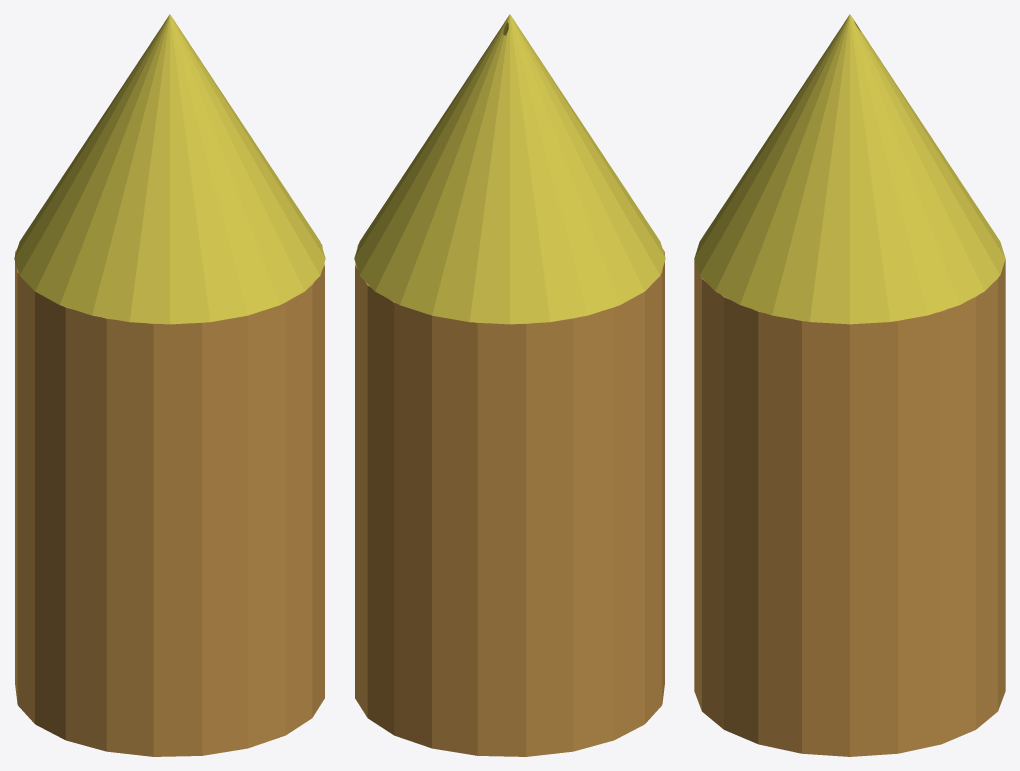
File: Figura.glb
3 views of the same model, side by side, from view 1: azimuth 30°, elevation 25°; view 2: azimuth 150°, elevation 25°; view 3: azimuth 270°, elevation 25° (orthographic).
Parts seen in each view (by area): view 1: Mesh_Mesh_head_geo.001_lambert2SG.001; view 2: Mesh_Mesh_head_geo.001_lambert2SG.001; view 3: Mesh_Mesh_head_geo.001_lambert2SG.001.
Part boxes in pixels (x1,y1,x2,y2): Mesh_Mesh_head_geo.001_lambert2SG.001: (14,14,325,756); Mesh_Mesh_head_geo.001_lambert2SG.001: (354,14,665,756); Mesh_Mesh_head_geo.001_lambert2SG.001: (694,14,1005,756).
Size of the model in its own units: 30 by 72 by 30.
